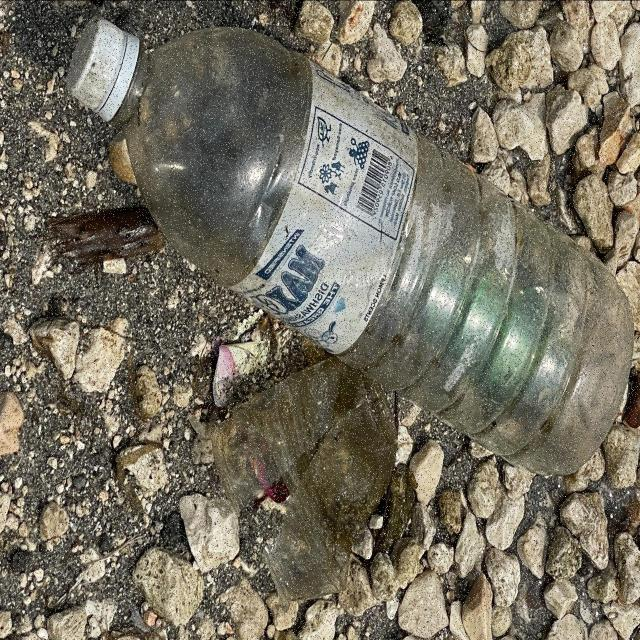plastic_waste: (61, 12, 637, 487)
